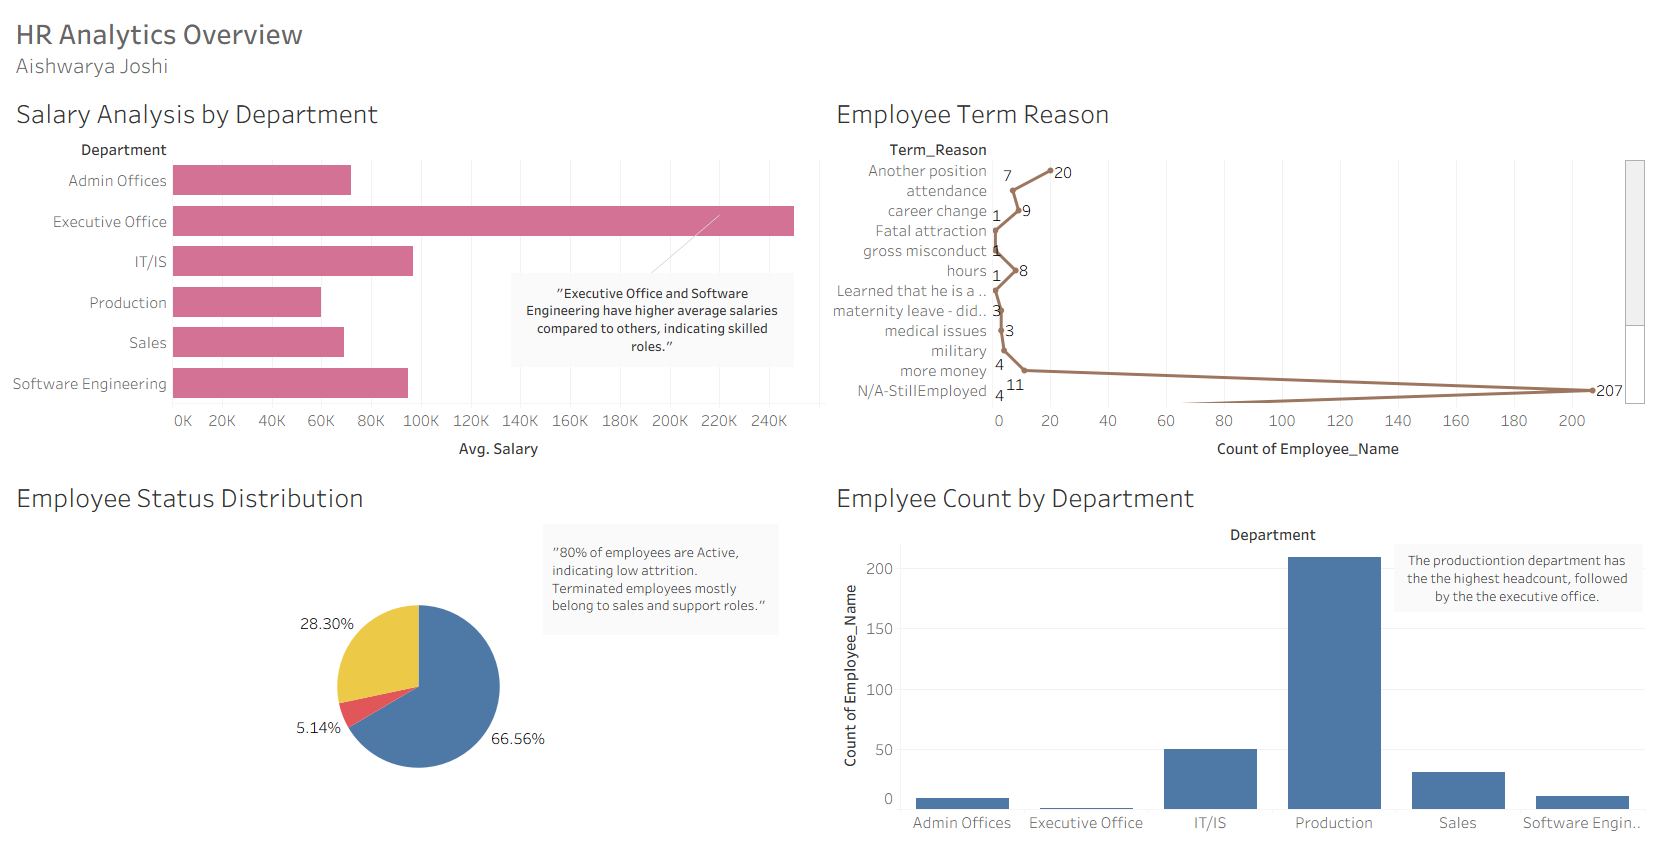

The dashboard page shown, as its layout file describes it:
{"tool":"tableau","page":{"name":"HR Analytics Dashboard","canvas":[1000,1000],"units":"permille","ordinal":0},"visuals":[{"type":"text","box":[4.8,9.3,990.3,90.6]},{"type":"worksheet","title":"Salary Analysis by Department","mark":"Bar","rows":["Department"],"cols":["Salary"],"box":[4.8,99.9,495.2,445.4]},{"type":"worksheet","title":"Employee Term Reason","mark":"Line","rows":["Term_Reason"],"cols":["Employee_Name"],"box":[500,99.9,495.2,445.4]},{"type":"worksheet","title":"Employee Status Distribution","mark":"Pie","box":[4.8,545.3,495.2,445.4]},{"type":"worksheet","title":"Emplyee Count by Department","mark":"Bar","rows":["Employee_Name"],"cols":["Department"],"box":[500,545.3,495.2,445.4]}]}

Visuals, with their boxes on the dashboard's canvas, which has no fixed pixel size, in thousandths of its width and height (x1, y1, x2, y2). These are canvas units, not pixel positions in the 1657x861 screenshot, which may show the page scaled, cropped or inside an application window:
text: [5, 9, 995, 100]
"Salary Analysis by Department" worksheet (Bar marks): [5, 100, 500, 545]
"Employee Term Reason" worksheet (Line marks): [500, 100, 995, 545]
"Employee Status Distribution" worksheet (Pie marks): [5, 545, 500, 991]
"Emplyee Count by Department" worksheet (Bar marks): [500, 545, 995, 991]
